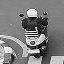mobil: (11, 12, 57, 56)
